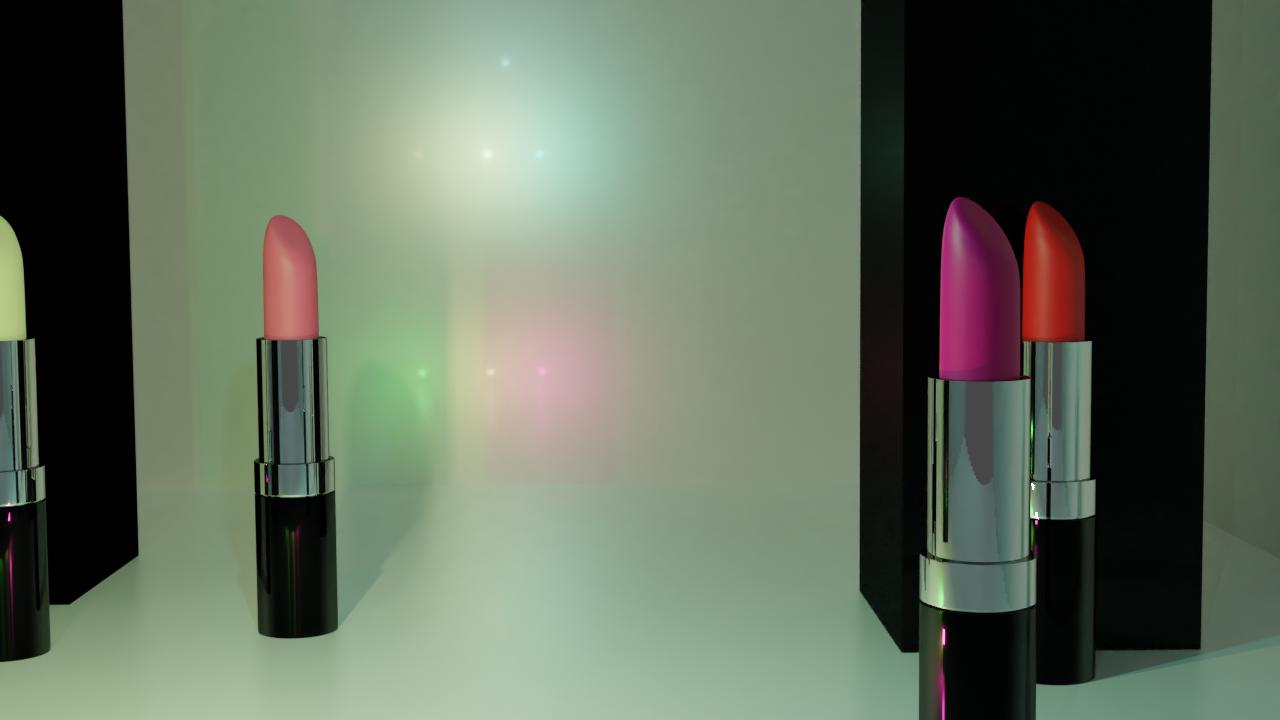CLASSIFIER_NAME: (916, 189, 1041, 720), (1002, 195, 1100, 685), (252, 210, 340, 645), (0, 204, 53, 662)
